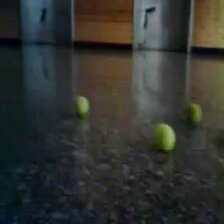tennis: (150, 122, 175, 152), (184, 103, 203, 127), (74, 96, 91, 118)
